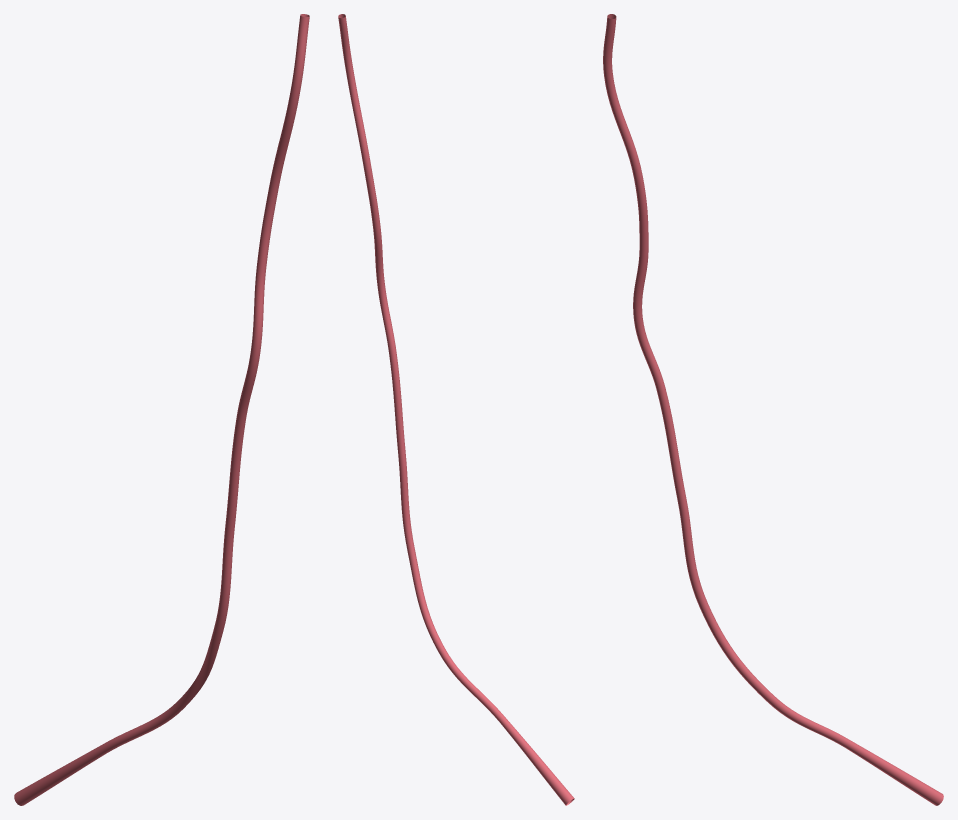
3 views of the same model, side by side, from view 1: azimuth 30°, elevation 25°; view 2: azimuth 210°, elevation 25°; view 3: azimuth 270°, elevation 25° (orthographic). The views are drawn at different scales.
Parts seen in each view (by area): view 1: ZA_2408c7aceb47f5ad; view 2: ZA_2408c7aceb47f5ad; view 3: ZA_2408c7aceb47f5ad.
Boxes of the visible parts, <box> form: ZA_2408c7aceb47f5ad: <box>14,14,309,805</box>; ZA_2408c7aceb47f5ad: <box>338,14,574,805</box>; ZA_2408c7aceb47f5ad: <box>603,14,943,805</box>.
Bounding box in the file's own units: 0.0288 × 0.1998 × 0.0734.
